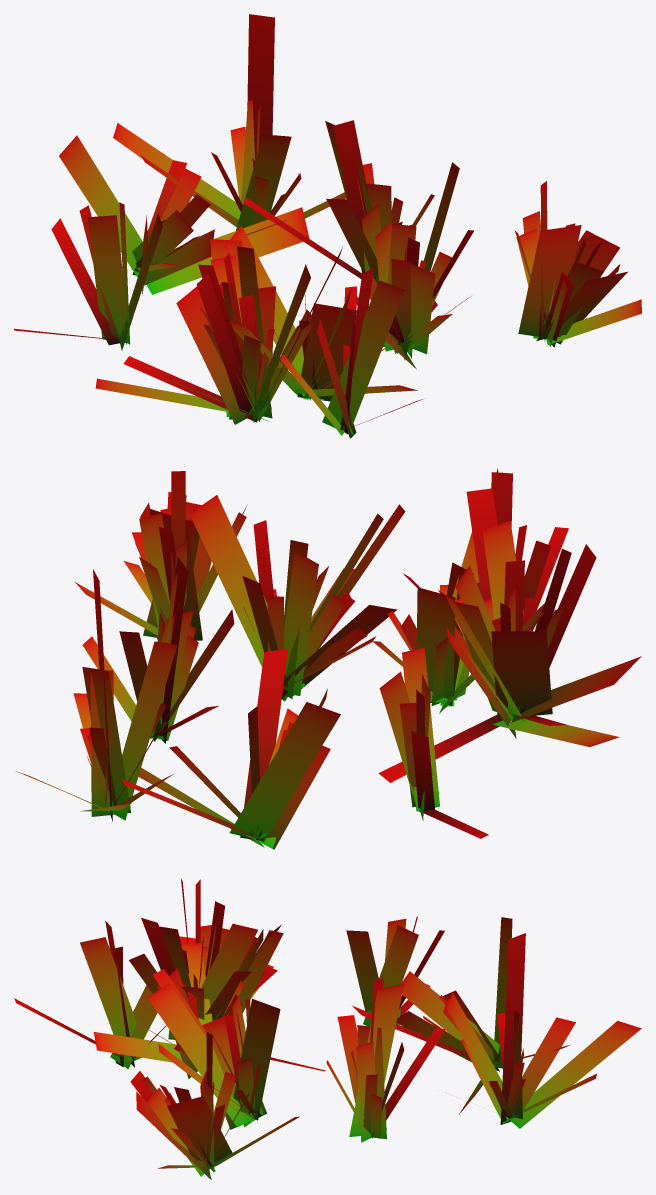
Rendered from Grass Clumps_LOD2_Var3_rbdoo.fbx.
The picture shows the model from 3 angles, top to bottom: view 1: azimuth 30°, elevation 25°; view 2: azimuth 150°, elevation 25°; view 3: azimuth 270°, elevation 25°; orthographic projection. The views are drawn at different scales.
Parts seen in each view (by area): view 1: _ea15_Var3_LOD2; view 2: _ea15_Var3_LOD2; view 3: _ea15_Var3_LOD2.
Boxes of the visible parts, bbox=[...] form: _ea15_Var3_LOD2: bbox=[14, 14, 641, 438]; _ea15_Var3_LOD2: bbox=[16, 468, 641, 849]; _ea15_Var3_LOD2: bbox=[14, 879, 641, 1179].
Size of the model in its own units: 60.38 by 26.87 by 76.46.
